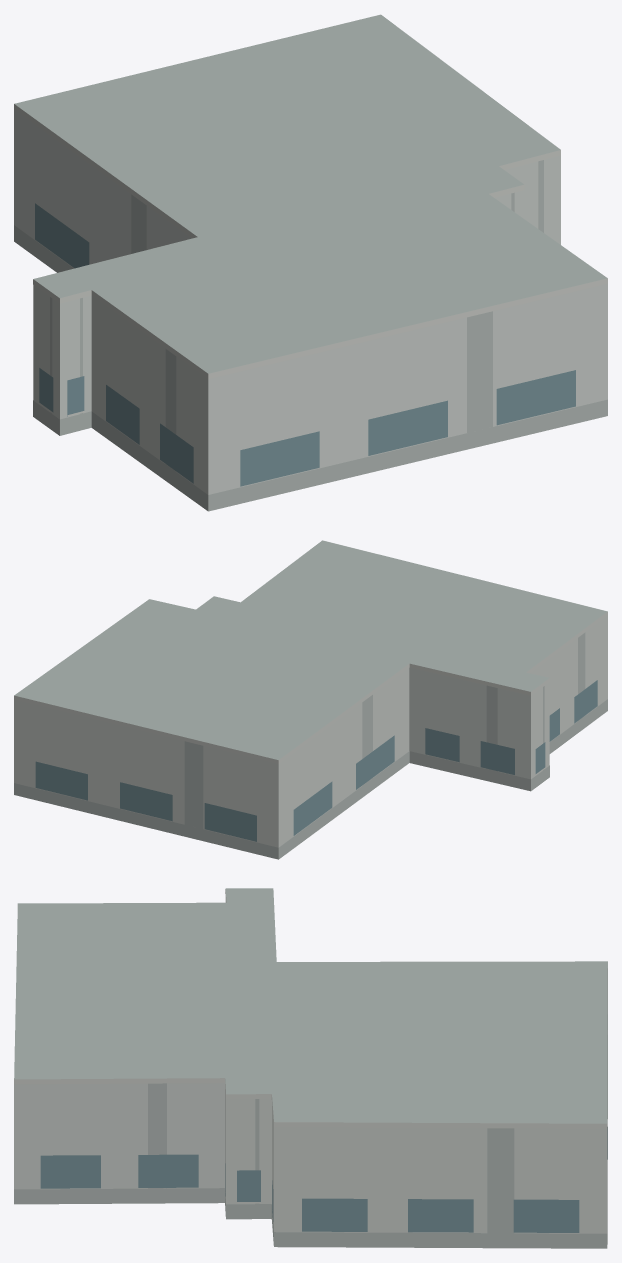
File: survey-upis-32968829.glb
The picture shows the model from 3 angles, top to bottom: view 1: azimuth 30°, elevation 25°; view 2: azimuth 150°, elevation 25°; view 3: azimuth 270°, elevation 25°; orthographic projection. The views are drawn at different scales.
Visible parts, largest first — view 1: survey-upis-32968829.tmp; view 2: survey-upis-32968829.tmp; view 3: survey-upis-32968829.tmp.
Part boxes in pixels (x1,y1,x2,y2): survey-upis-32968829.tmp: [14, 14, 607, 511]; survey-upis-32968829.tmp: [14, 540, 607, 859]; survey-upis-32968829.tmp: [14, 888, 607, 1248].
Size of the model in its own units: 24.68 by 6.1 by 26.29.
